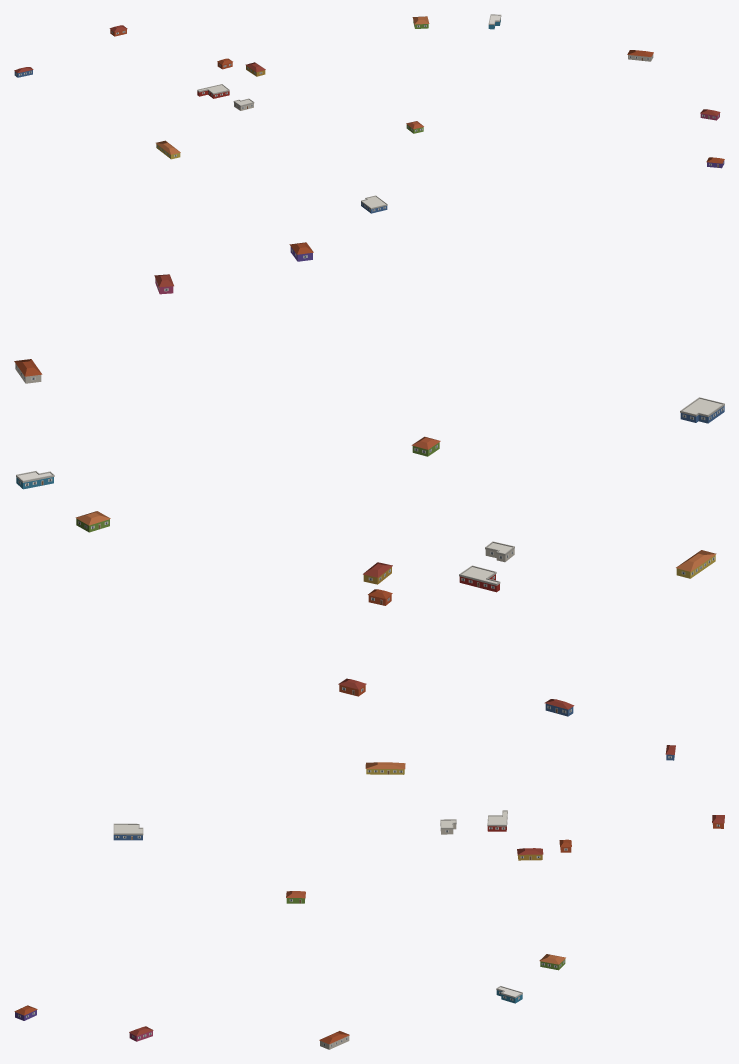
File: msb_oranjestad_m16_2.glb
3 renders of one model, top to bottom at view 1: azimuth 30°, elevation 25°; view 2: azimuth 150°, elevation 25°; view 3: azimuth 270°, elevation 25°, orthographic. The views are drawn at different scales.
Parts seen in each view (by area): view 1: msb_oranjestad_m16_2_lod0; view 2: msb_oranjestad_m16_2_lod0; view 3: msb_oranjestad_m16_2_lod0.
Boxes of the visible parts, bbox=[...] form: msb_oranjestad_m16_2_lod0: bbox=[14, 14, 724, 213]; msb_oranjestad_m16_2_lod0: bbox=[14, 242, 724, 716]; msb_oranjestad_m16_2_lod0: bbox=[14, 745, 724, 1049].
Size of what is drawn, in the model's own units: 378 by 8.59 by 380.
Materials: 3 (1 with a texture image).
